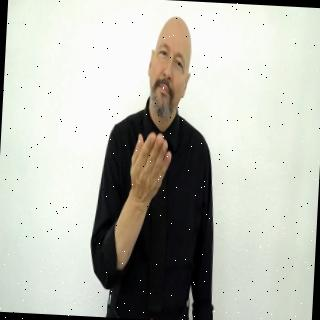ThankYou: (86, 11, 230, 320)
